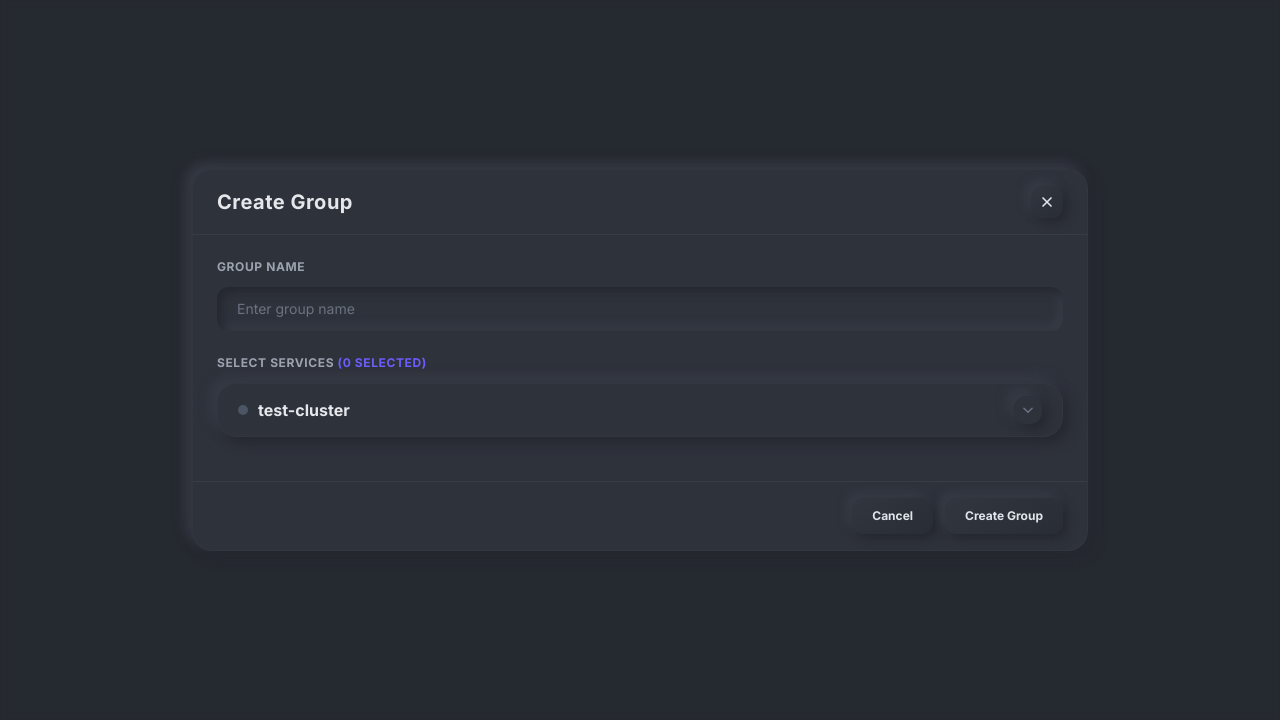
Scenario: GroupForm › should only show namespaces that have selected services
Expected: the text "(0 selected)" is shown, [338,355,427,370]
What coordinates should you click on to do the following:
click the button "test-cluster"
I would click on:
 (304, 410)
Its box is [218,384,1062,436].
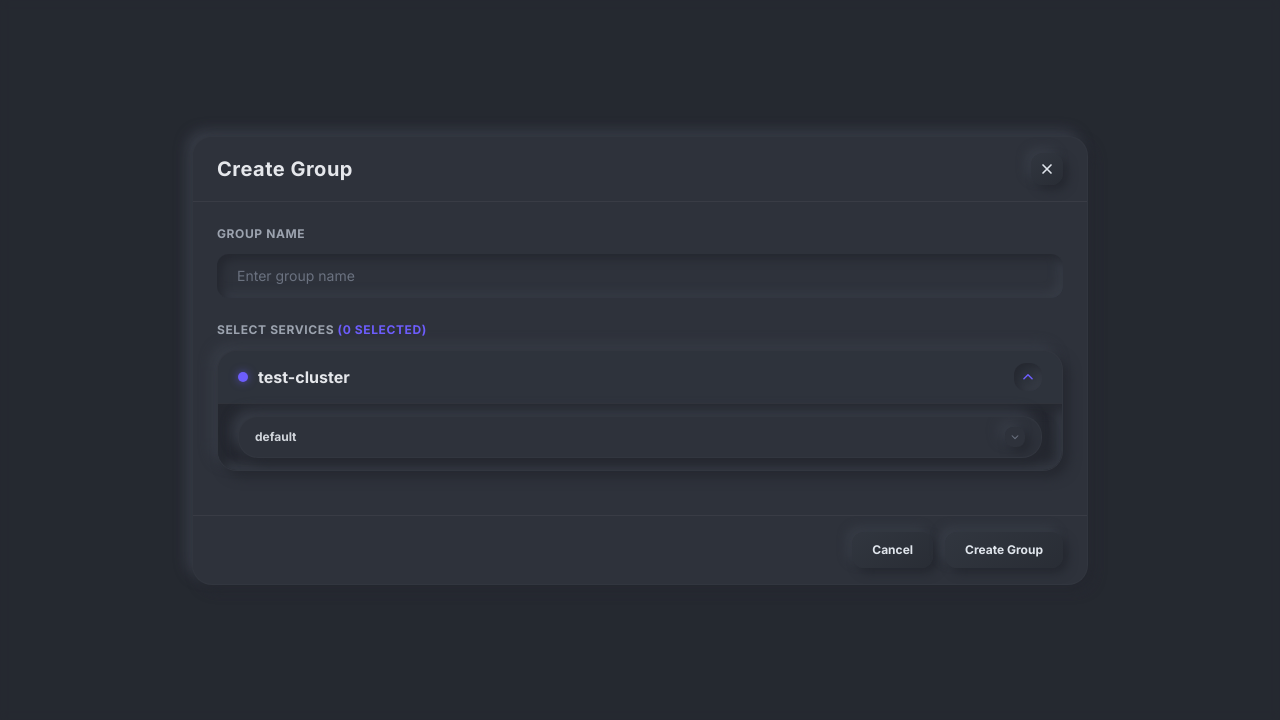
Expected: the text "default" is shown, [255,428,296,444]
What coordinates should you click on to do the following:
click the button "default"
I would click on:
 (276, 436)
Its box is [239,416,1041,456].
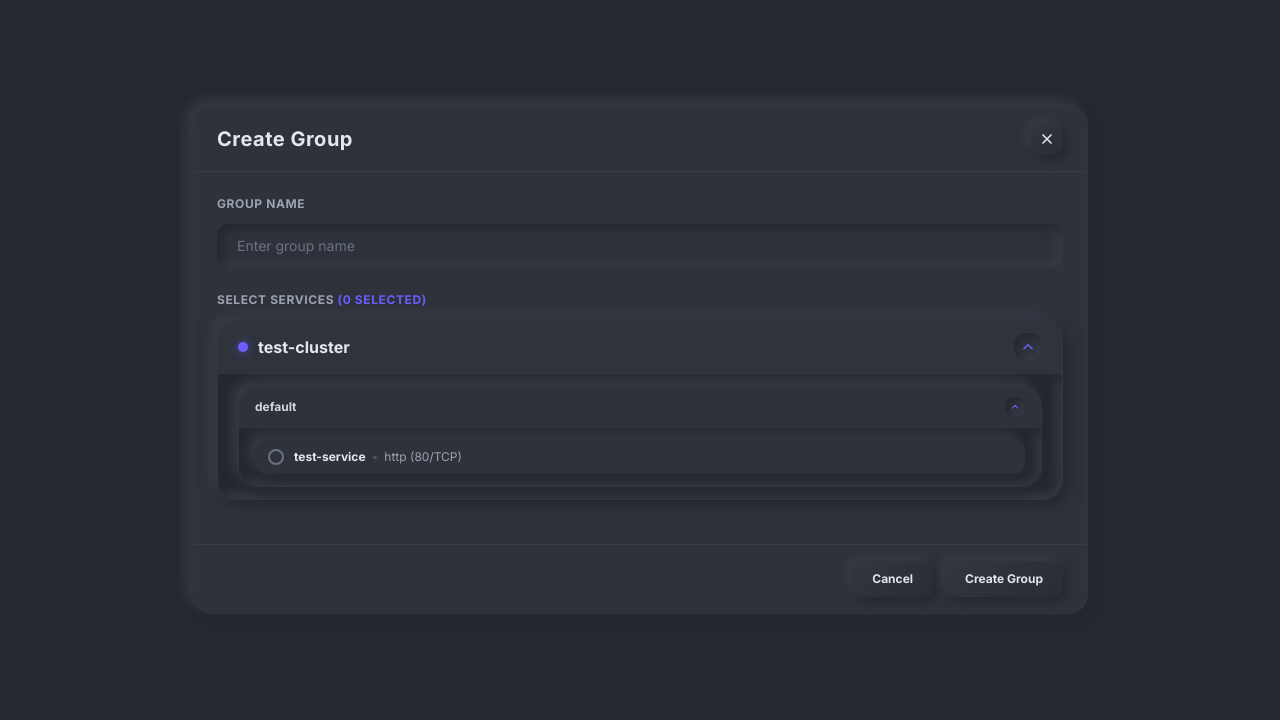
Expected: the text "test-service" is shown, [294,449,366,464]
Expected: the text "http (80/TCP)" is shown, [384,449,462,464]
